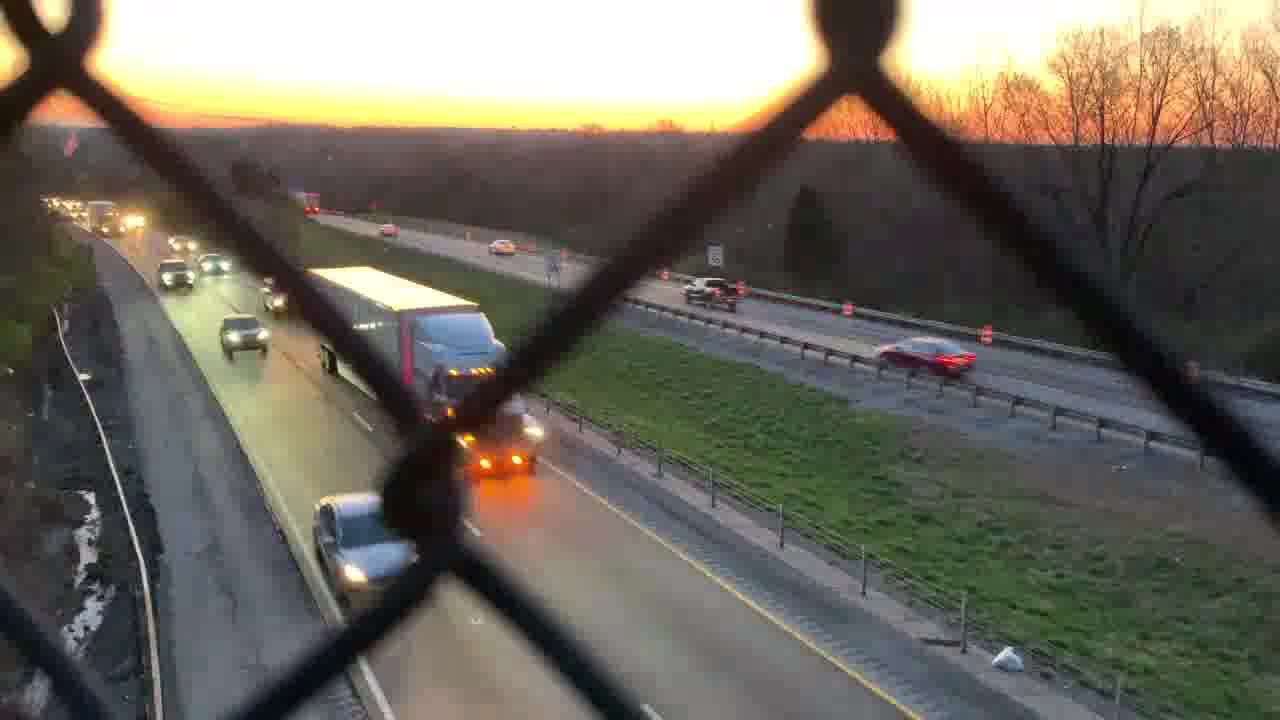heavyTruck: (303, 260, 543, 479)
lightTruck: (676, 270, 748, 314)
smallCar: (314, 482, 426, 592), (878, 330, 980, 377)
